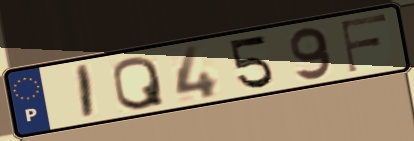4: (171, 43, 224, 102)
5: (226, 34, 277, 91)
9: (287, 25, 334, 82)
F: (338, 11, 390, 75)
I: (76, 62, 97, 122)
Q: (110, 54, 168, 112)
